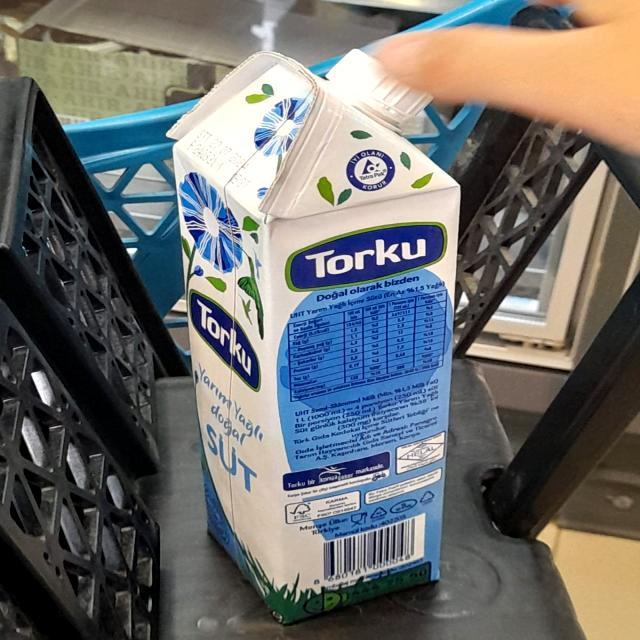milk: (149, 40, 502, 613)
